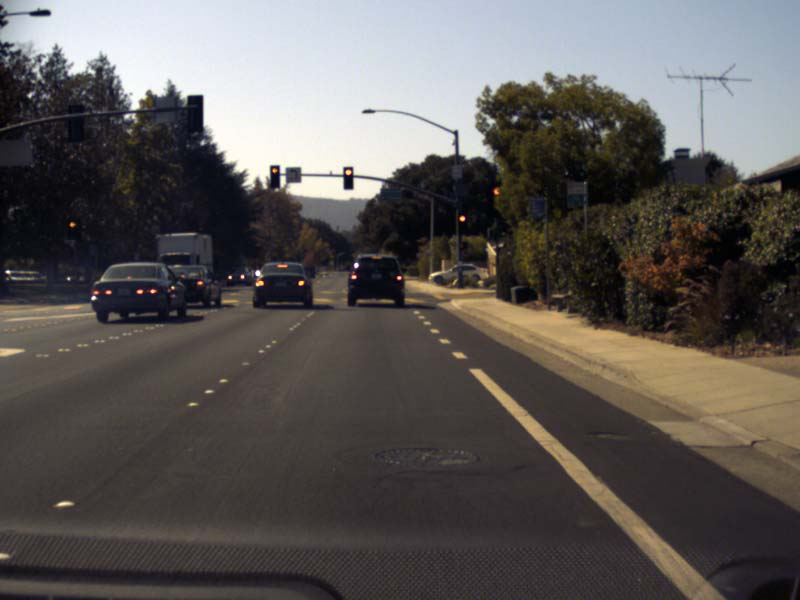Red: (66, 218, 79, 240), (270, 166, 279, 188), (343, 167, 352, 189), (457, 212, 466, 234)
